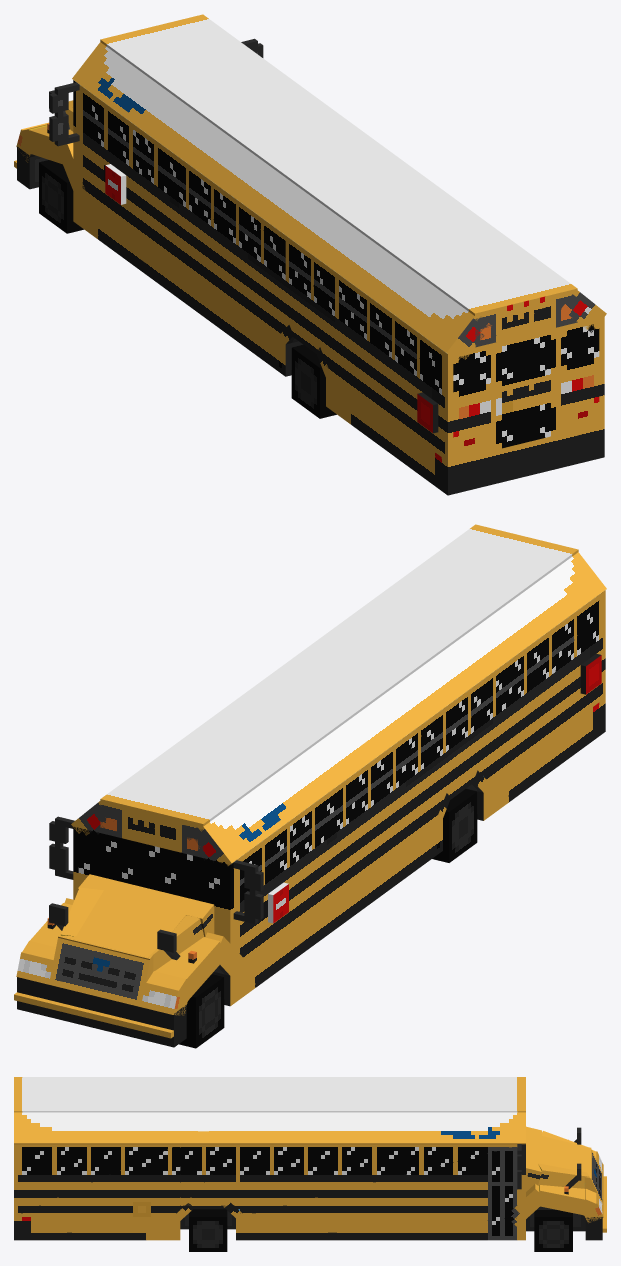
File: IC CE or Bluebird Vision (1).gltf
3 renders of one model, top to bottom at view 1: azimuth 30°, elevation 25°; view 2: azimuth 150°, elevation 25°; view 3: azimuth 270°, elevation 25°, orthographic. The views are drawn at different scales.
Parts seen in each view (by area): view 1: cube (×19); view 2: cube (×26); view 3: cube (×21).
Boxes of the visible parts, <box> form: cube (×19): <box>17,17,606,495</box>; cube (×26): <box>14,526,605,1048</box>; cube (×21): <box>14,1077,603,1251</box>.
Size of the model in its own units: 2.44 by 2.12 by 8.69.
Materials: 1 (1 with a texture image).
